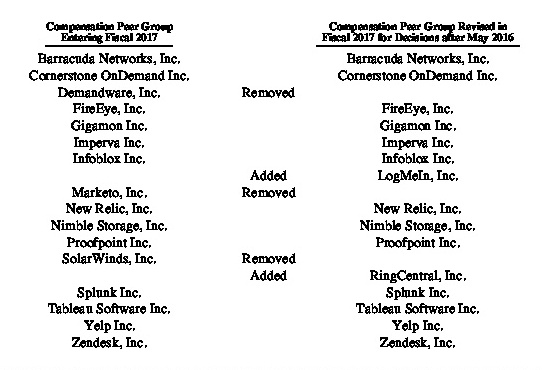table: (0, 0, 542, 370)
